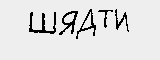Д: (81, 8, 98, 36)
И: (114, 8, 130, 33)
Т: (99, 7, 111, 29)
Ш: (29, 10, 58, 34)
Я: (61, 10, 78, 37)
